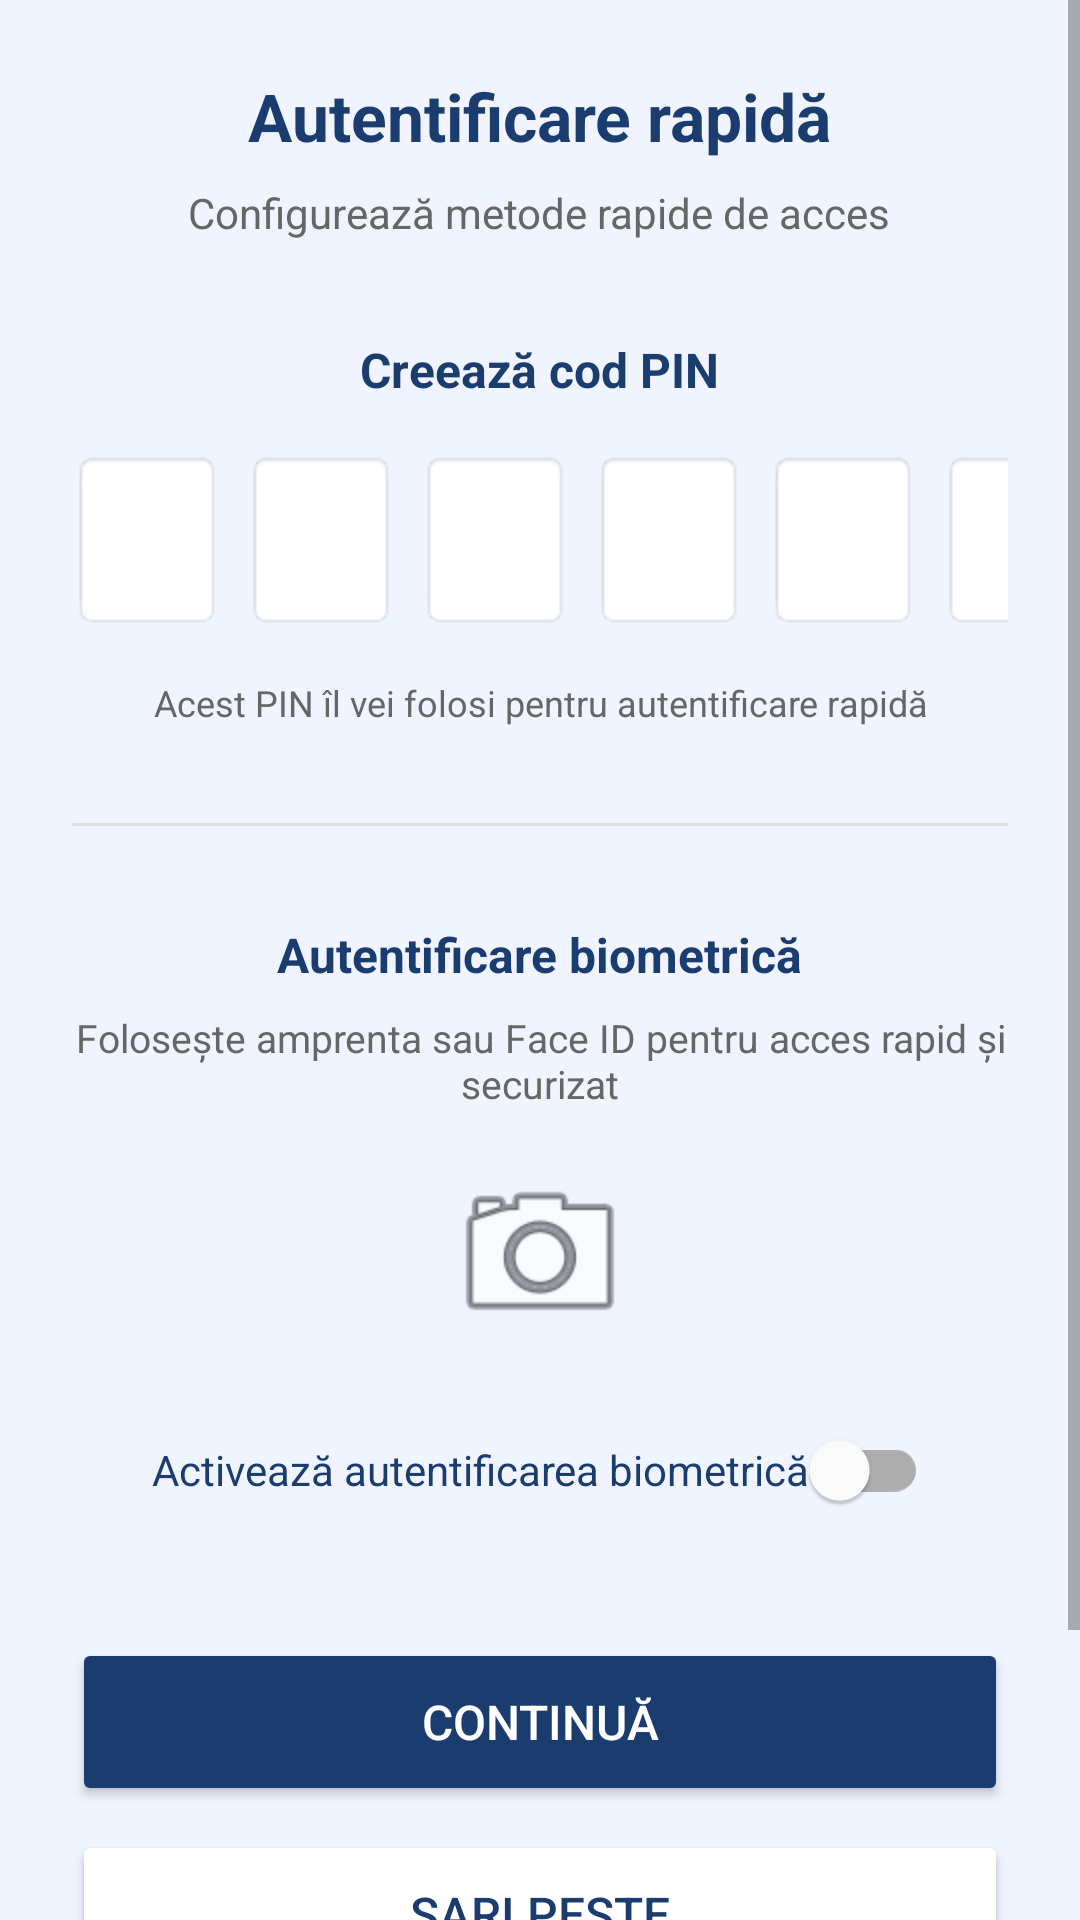

Screen size 1080w x 1920h. Icon name, then its center in pixels as [x,y]:
camera: [540,1251]
